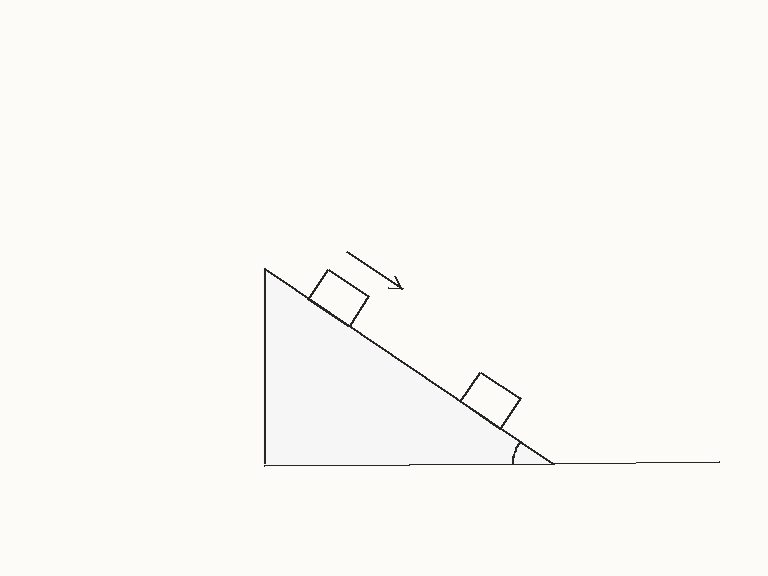block: (306, 267, 370, 328), (458, 370, 522, 430)
ramp: (262, 267, 555, 466)
